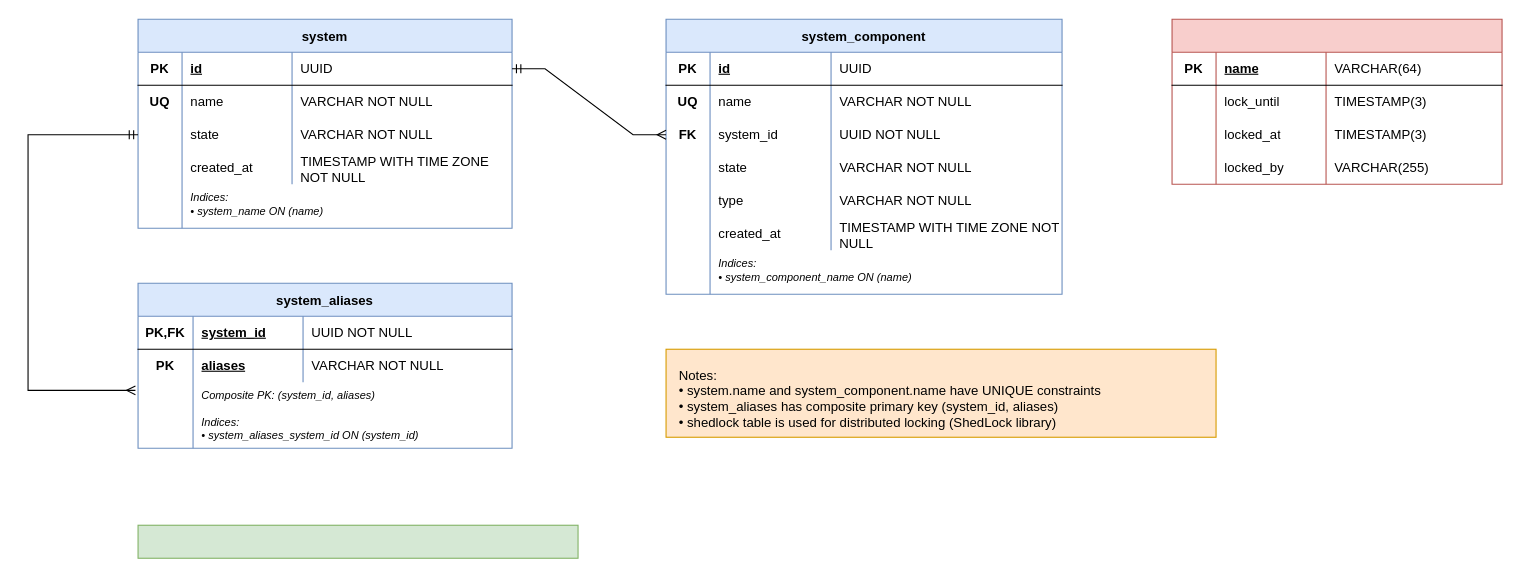
The diagram is 1521 pixels wide and 578 high, and some of its shapes have lost their labels. Each missing label, with the box of its shape:
Database Schema: ch.admin.bit.jeap.governance.domain: (137, 524, 578, 558)
shedlock: (1171, 18, 1502, 184)
